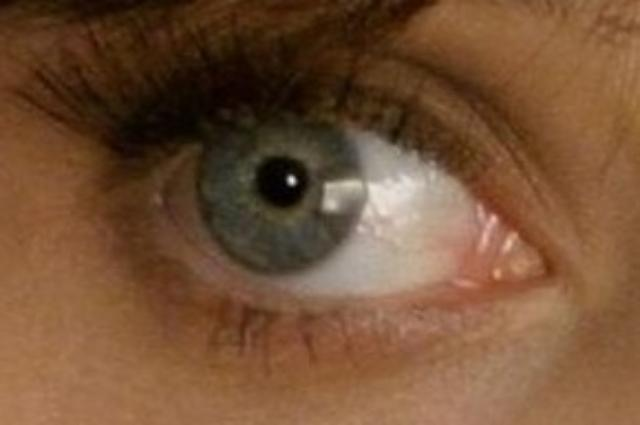eye: (204, 111, 368, 279)
